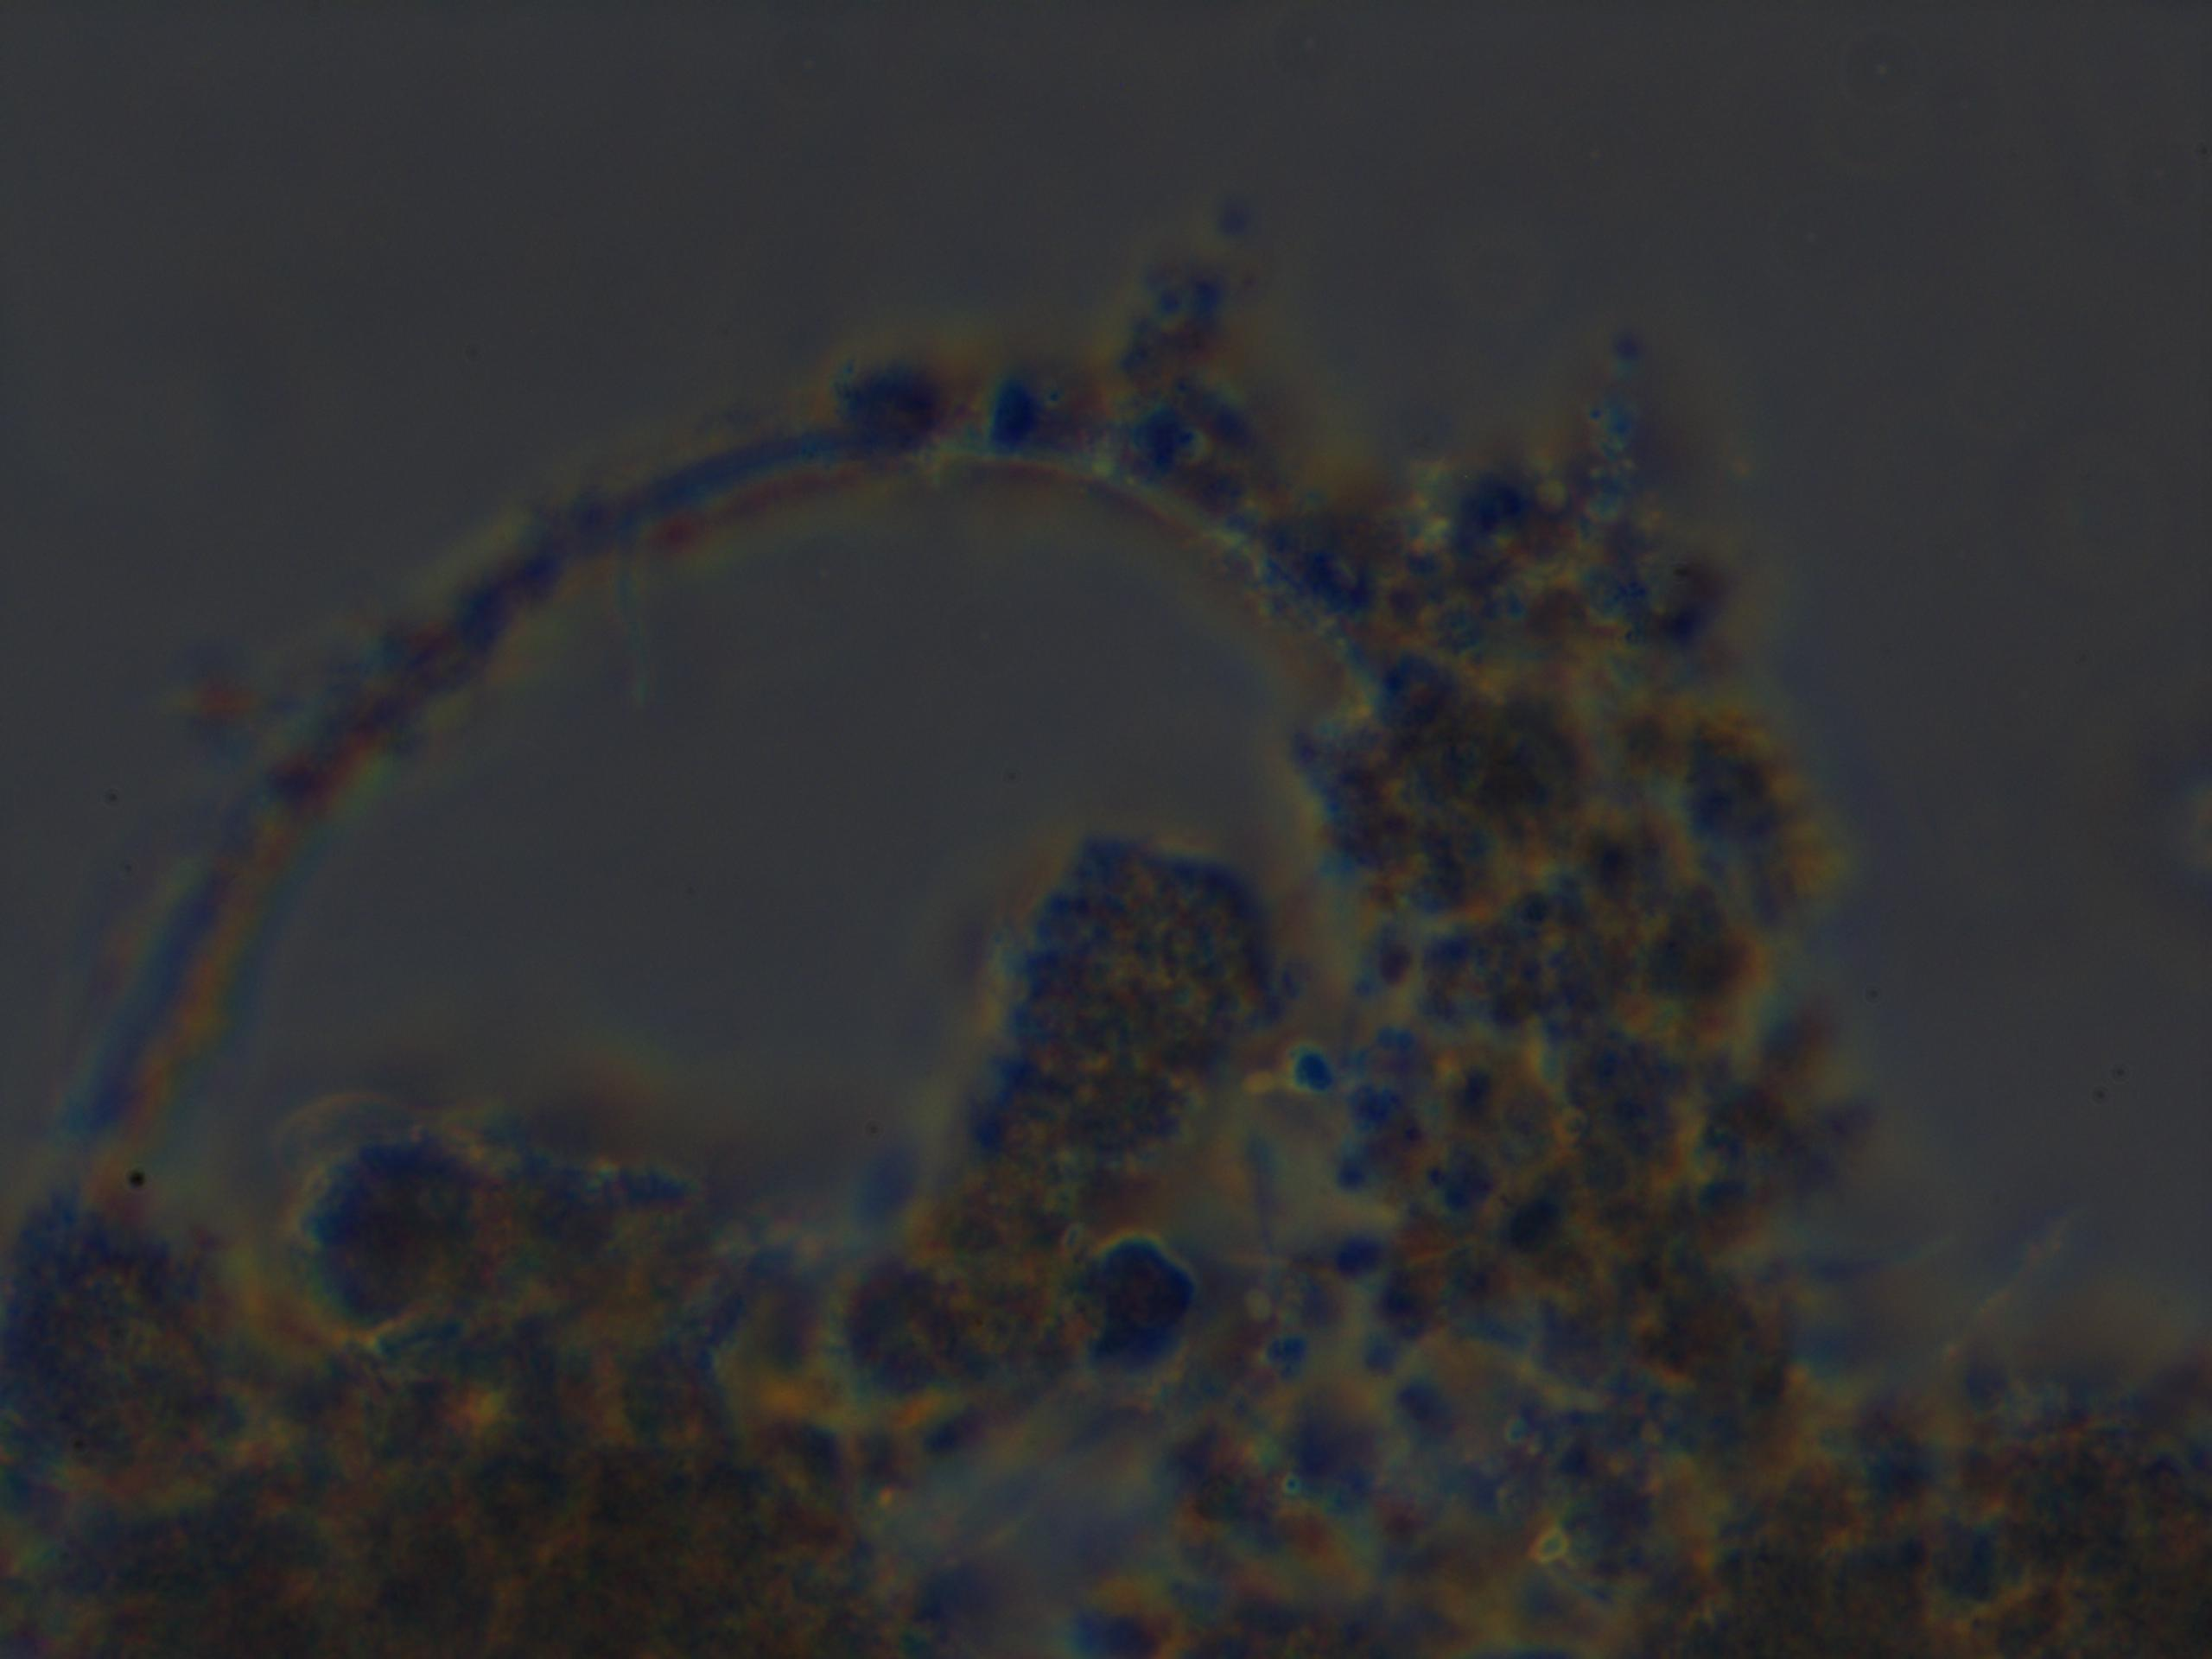filament: (0, 312, 1505, 1293)
